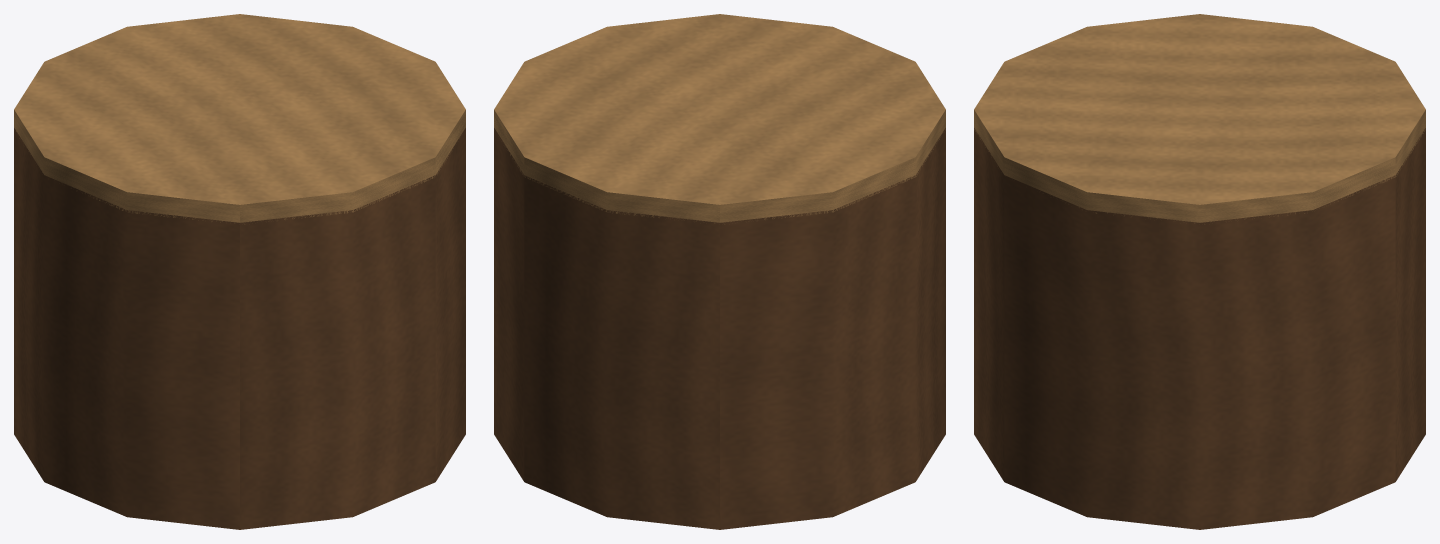
The model's file is chopping-block.fbx.
3 renders of one model, left to right at view 1: azimuth 30°, elevation 25°; view 2: azimuth 150°, elevation 25°; view 3: azimuth 270°, elevation 25°, orthographic.
Parts seen in each view (by area): view 1: chopping-block__Geometry; view 2: chopping-block__Geometry; view 3: chopping-block__Geometry.
Part boxes in pixels (left/top/right/bottom): chopping-block__Geometry: left=14, top=14, right=465, bottom=529; chopping-block__Geometry: left=494, top=14, right=945, bottom=529; chopping-block__Geometry: left=974, top=14, right=1425, bottom=529.
Bounding box in the file's own units: 0.8 × 0.635 × 0.8.
